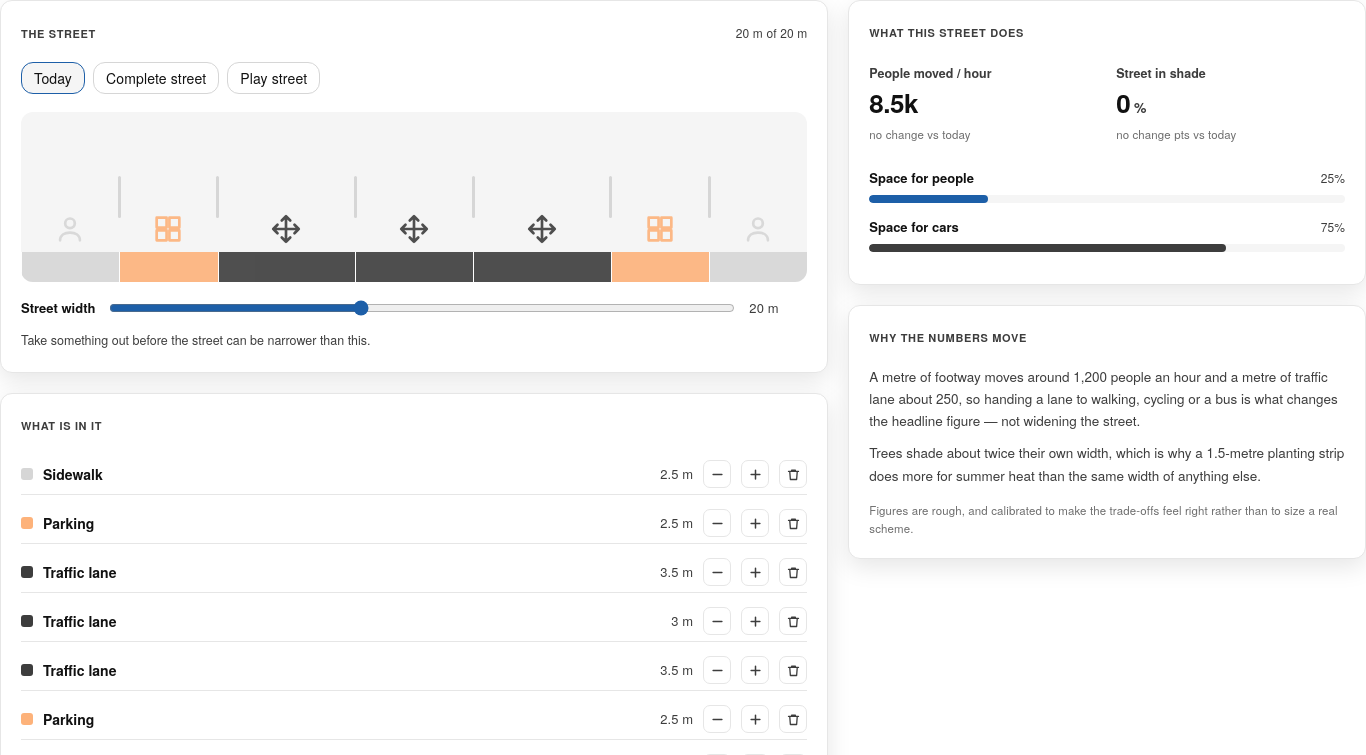
Test: Street Section Mixer › offers to fill the street again, and does
Click the 1st button named "Remove Parking": [793, 523] box [779,509,807,537]
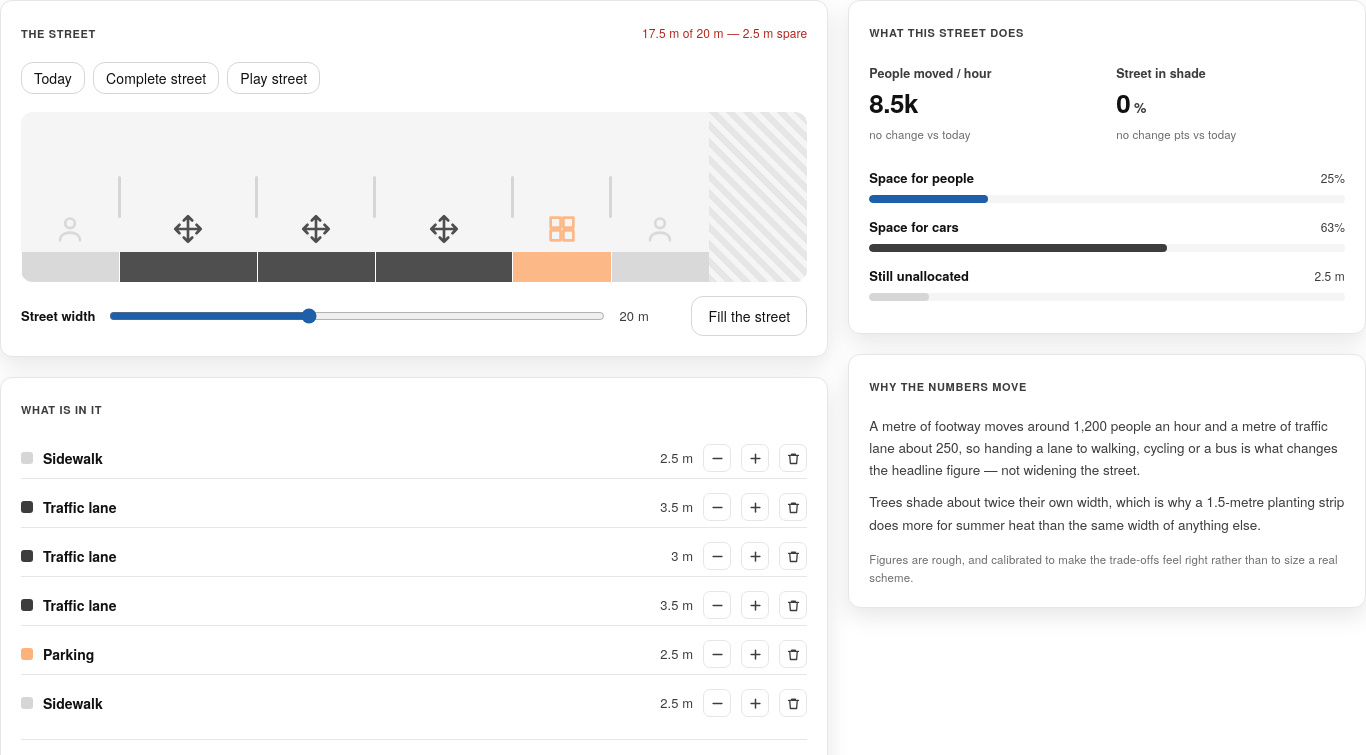
Click the button "Fill the street": [749, 316] box [692,296,807,336]
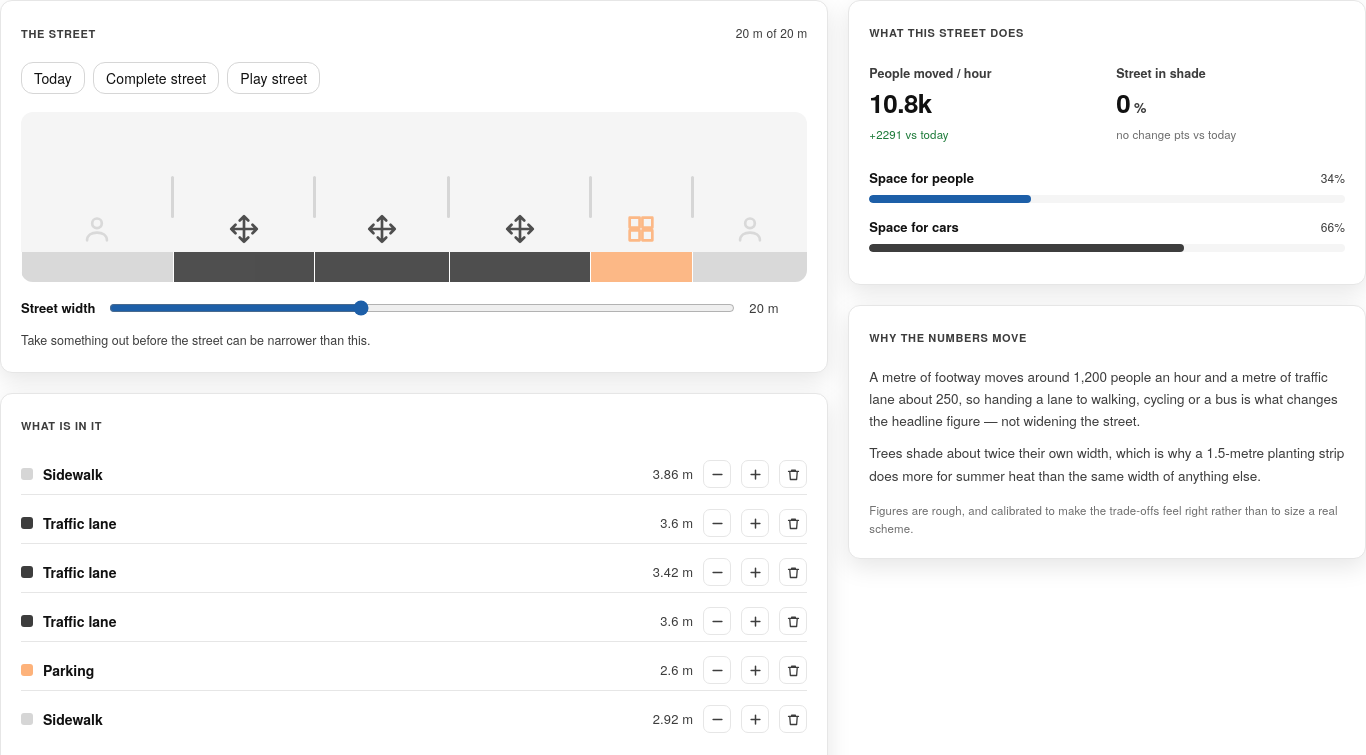
Check: the text "20 m of 20 m" is shown, box [736,21,807,45]
Check: the text "Still unallocated" is gone
